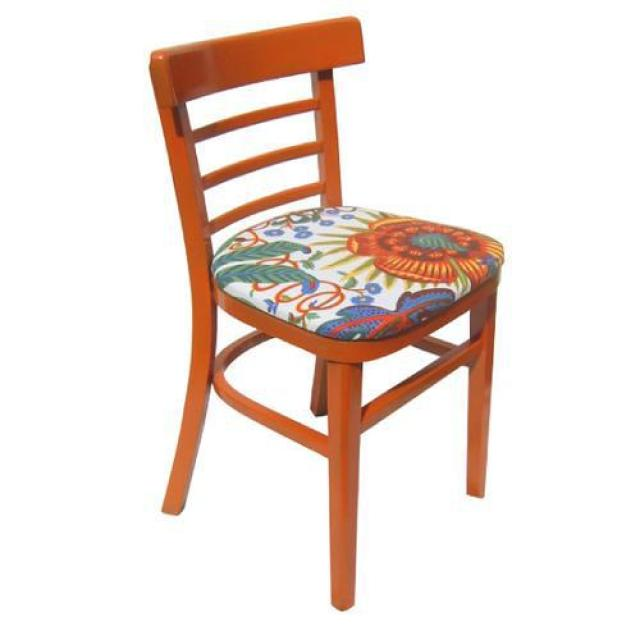chair: (148, 17, 504, 613)
